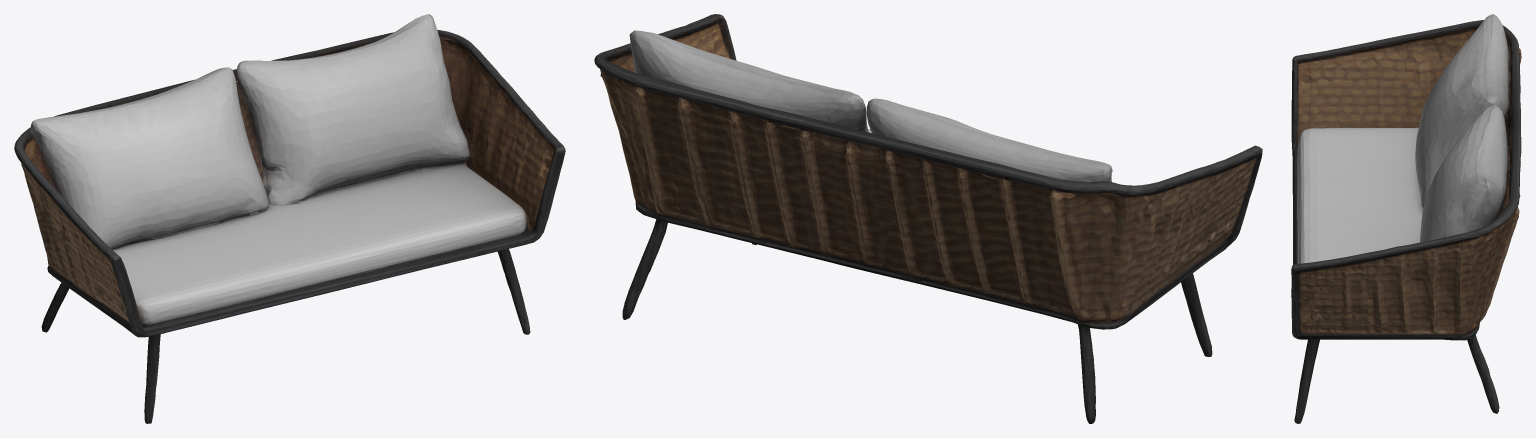
The model's file is sf156-sofa.glb.
The picture shows the model from 3 angles, left to right: view 1: azimuth 30°, elevation 25°; view 2: azimuth 150°, elevation 25°; view 3: azimuth 270°, elevation 25°; orthographic projection. The views are drawn at different scales.
Visible parts, largest first — view 1: geometry_0; view 2: geometry_0; view 3: geometry_0.
Part boxes in pixels (left/top/right/bottom): geometry_0: left=14, top=14, right=565, bottom=423; geometry_0: left=594, top=14, right=1262, bottom=423; geometry_0: left=1291, top=14, right=1521, bottom=423.
Size of the model in its own units: 0.9973 by 0.5172 by 0.452.
1 material, 1 textured.
